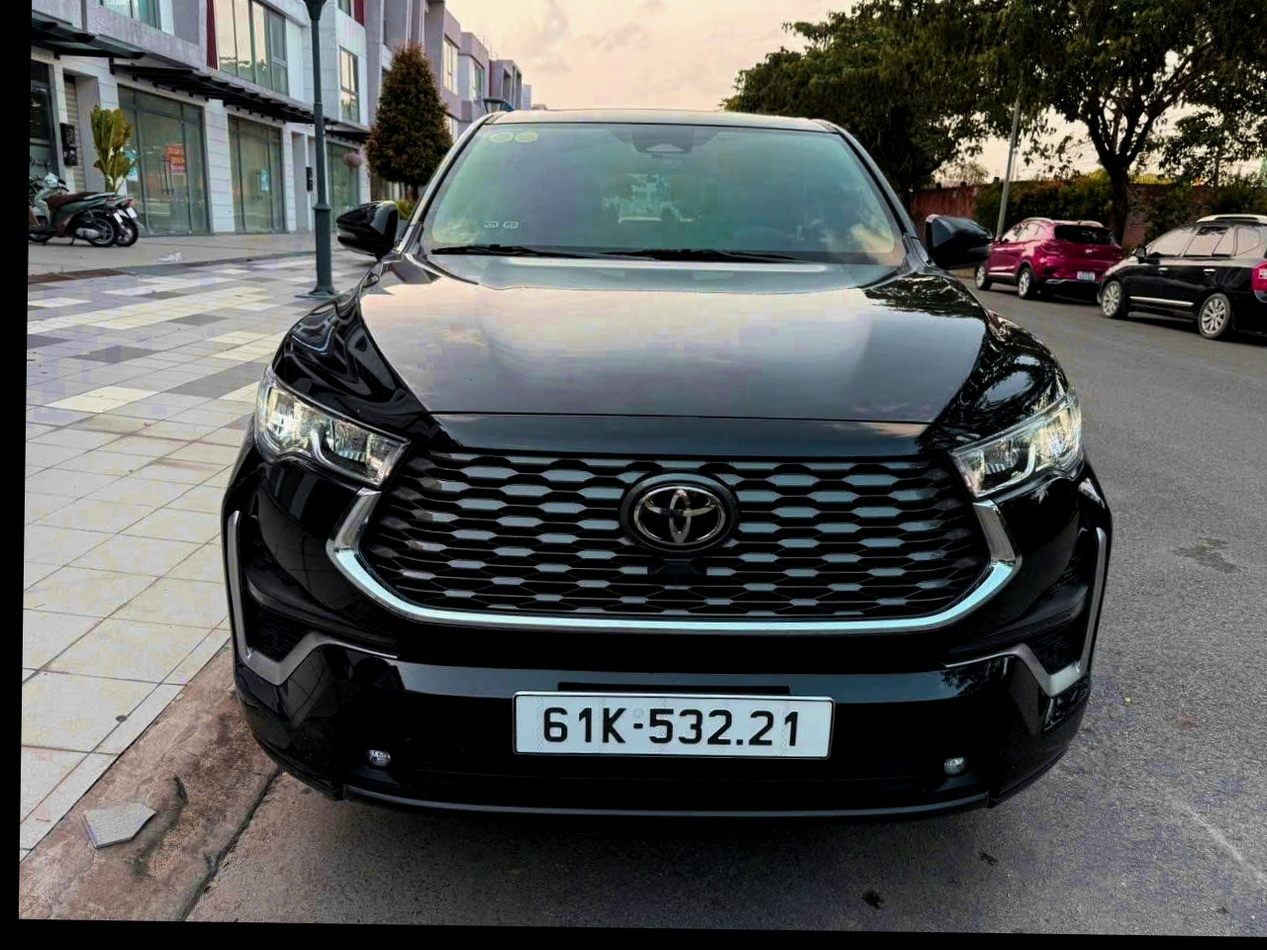Bien-so: (489, 706, 835, 785)
